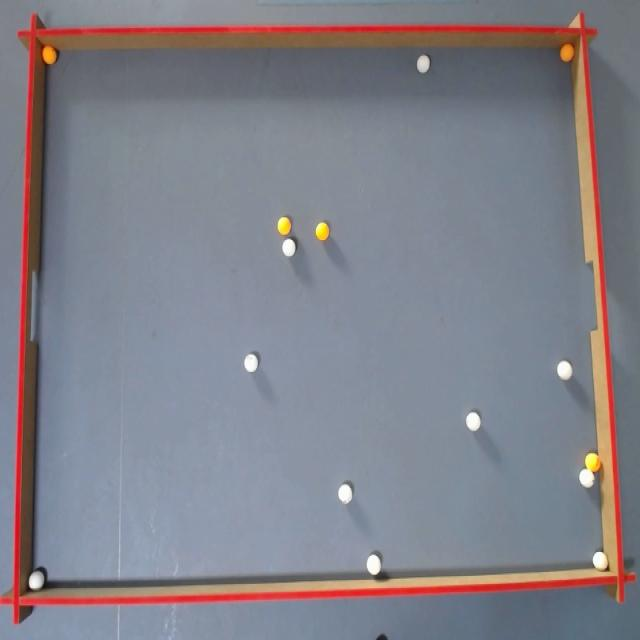orange_ball: (585, 452, 600, 472), (42, 46, 57, 64), (560, 44, 574, 62), (315, 222, 329, 240), (278, 217, 290, 234)
white_ball: (28, 569, 45, 591), (466, 411, 481, 431), (593, 551, 608, 571), (579, 468, 594, 488), (367, 554, 381, 575), (557, 361, 572, 380), (338, 484, 352, 504), (244, 353, 258, 372), (282, 238, 296, 256), (416, 54, 429, 73)
